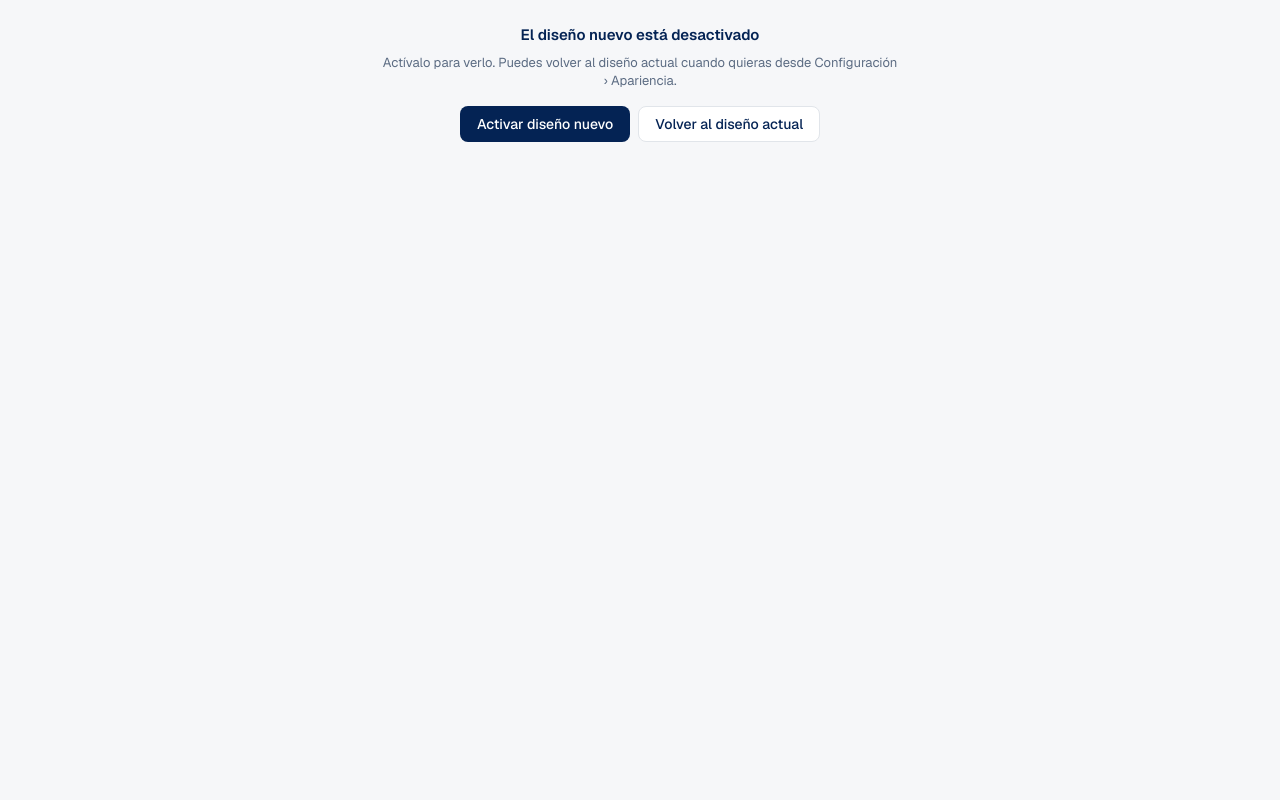
Test: PuertaRediseno y rutas /n (AV-420) › apagado, /n/incidencias avisa y «Activar diseño nuevo» lo enciende
Check: the heading "El diseño nuevo está desactivado" is shown, box [521, 24, 759, 46]
Click the button "Activar diseño nuevo".
click(545, 124)  # box [460, 106, 630, 142]
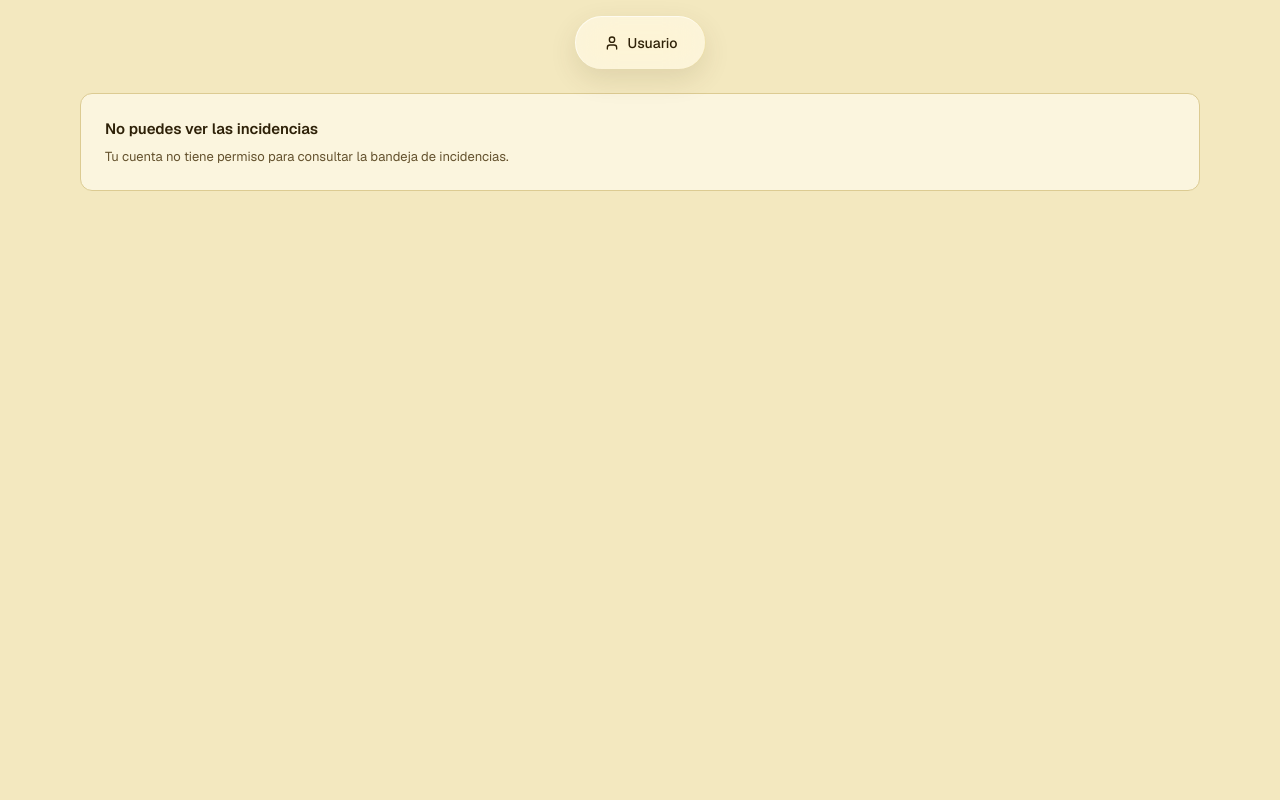
Check: the heading "No puedes ver las incidencias" is shown, box [105, 118, 318, 140]
